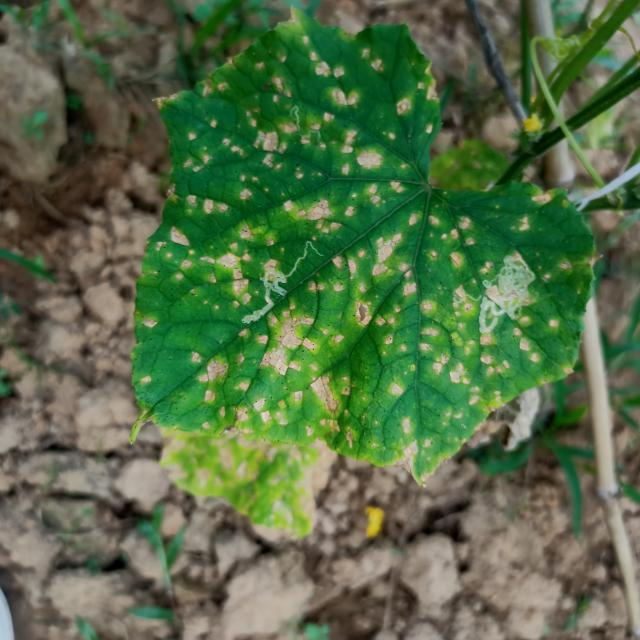disease_cucumber: (159, 42, 565, 450)
